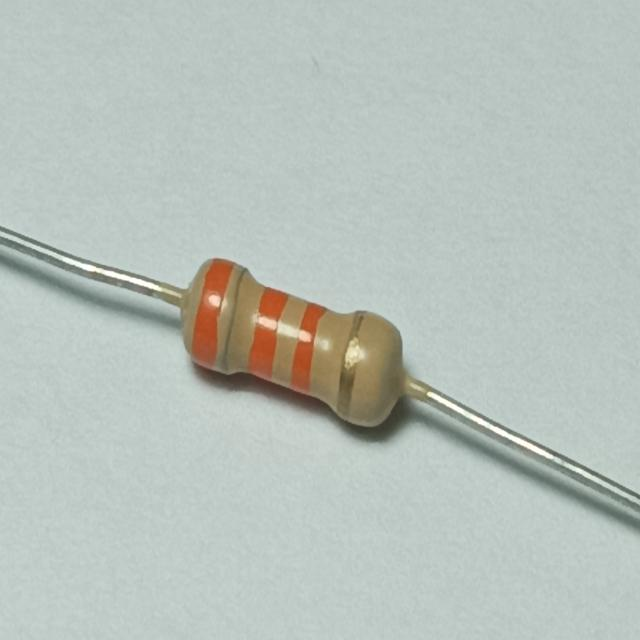33k ohms: (164, 242, 414, 440)
